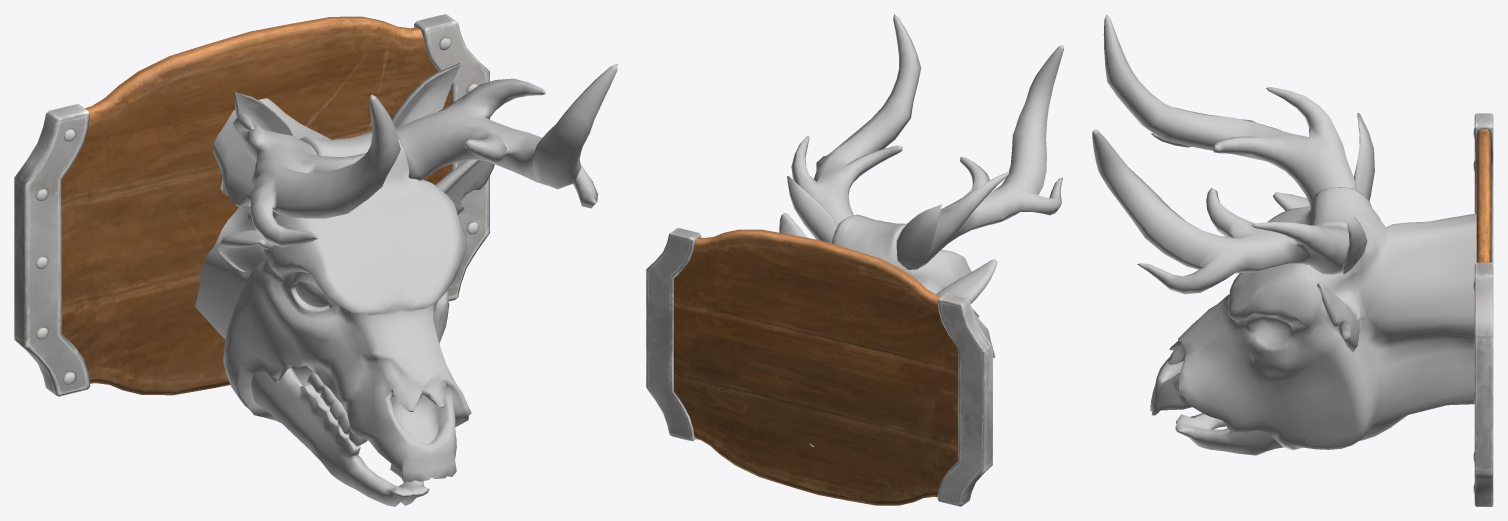
The picture shows the model from 3 angles, left to right: view 1: azimuth 30°, elevation 25°; view 2: azimuth 150°, elevation 25°; view 3: azimuth 270°, elevation 25°; orthographic projection. The views are drawn at different scales.
Parts seen in each view (by area): view 1: SM_Trophy_Plaque_ZombirCow_LOD0; view 2: SM_Trophy_Plaque_ZombirCow_LOD0; view 3: SM_Trophy_Plaque_ZombirCow_LOD0.
Boxes of the visible parts, <box> form: SM_Trophy_Plaque_ZombirCow_LOD0: <box>14,14,617,506</box>; SM_Trophy_Plaque_ZombirCow_LOD0: <box>646,14,1063,506</box>; SM_Trophy_Plaque_ZombirCow_LOD0: <box>1092,14,1493,506</box>.
Size of the model in its own units: 0.8959 by 0.8759 by 0.8027.
